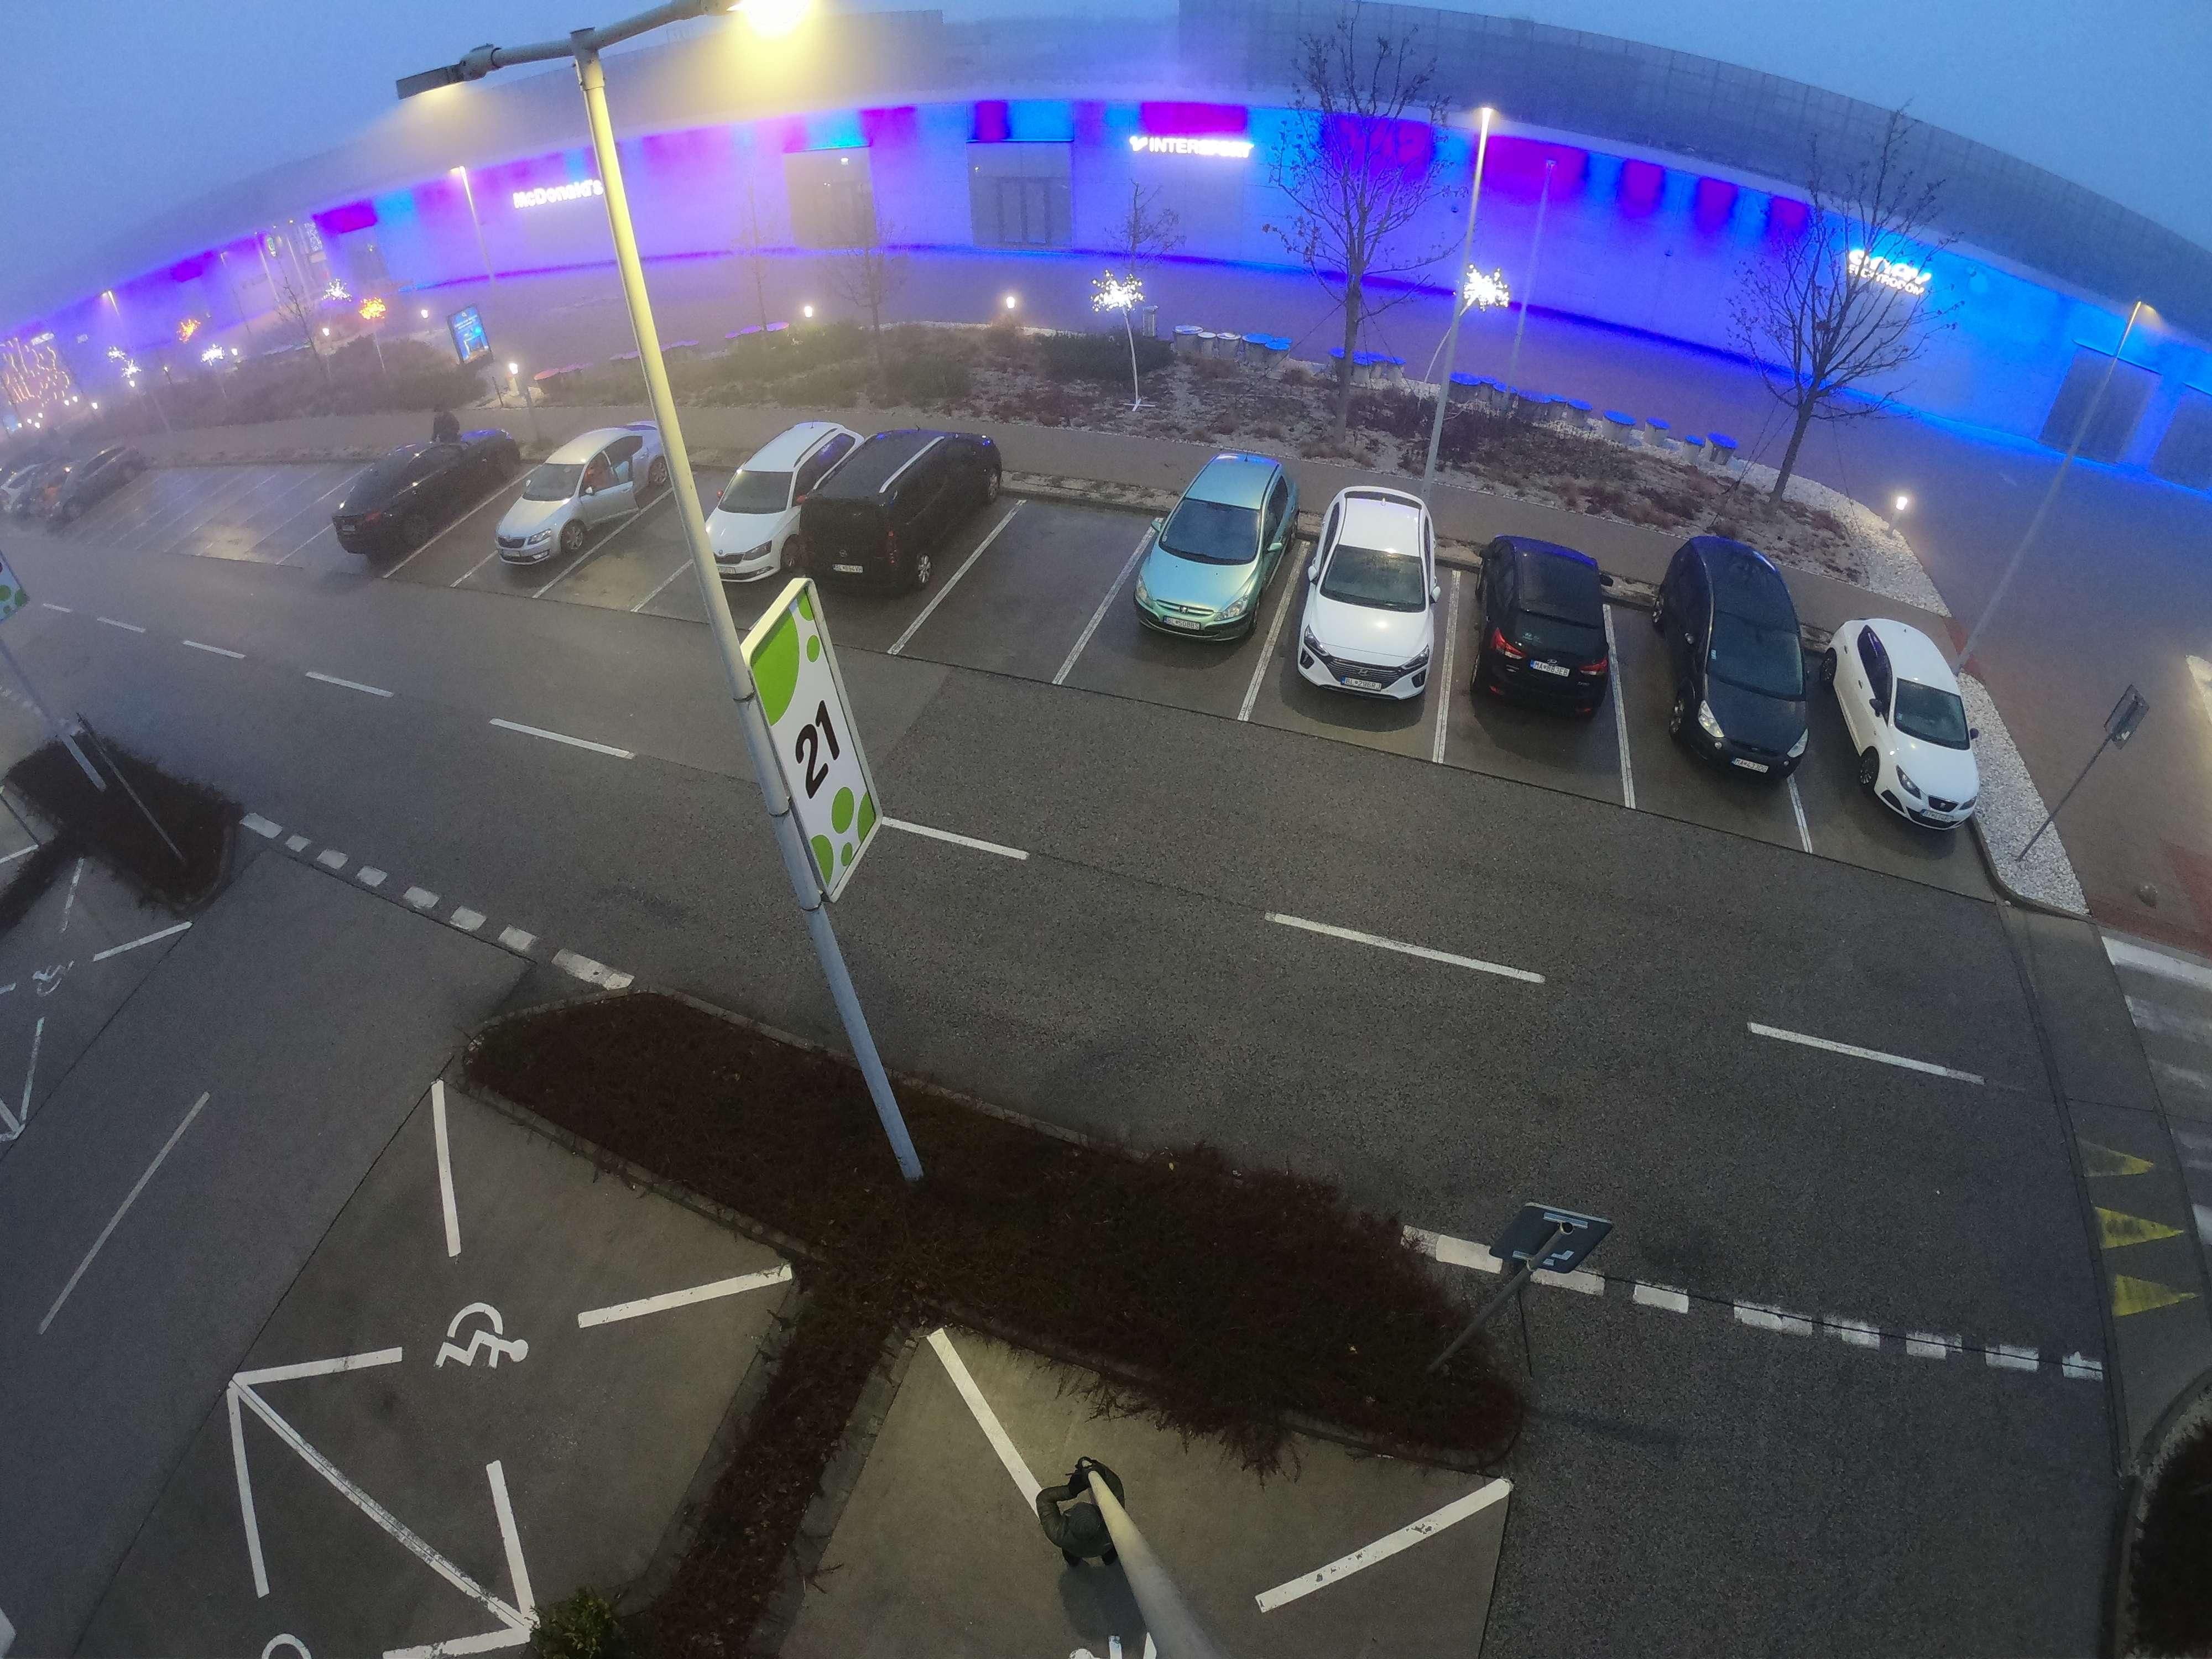empty: (1635, 542, 1825, 786), (1280, 467, 1468, 708), (1829, 606, 2008, 842), (1123, 450, 1303, 648), (1454, 538, 1635, 728), (820, 434, 995, 594), (688, 432, 855, 580), (489, 427, 658, 573), (3, 739, 115, 943), (341, 430, 509, 558)
occupied: (981, 540, 1108, 638), (401, 481, 517, 579), (599, 509, 697, 617)
